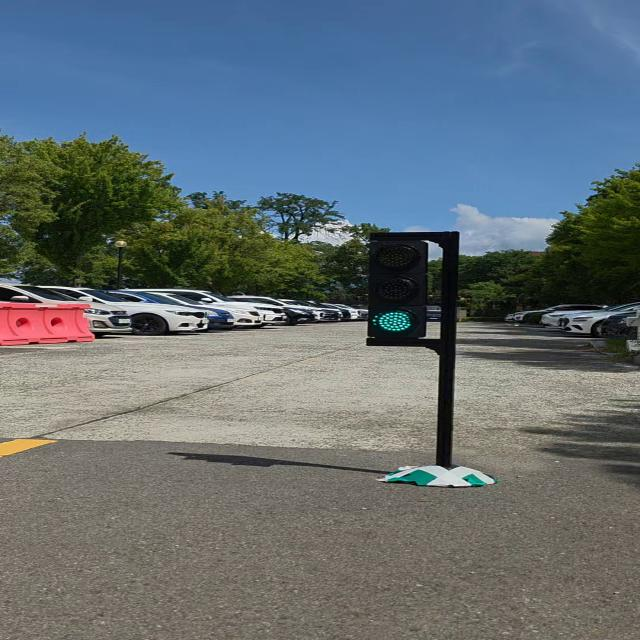green: (365, 236, 428, 344)
